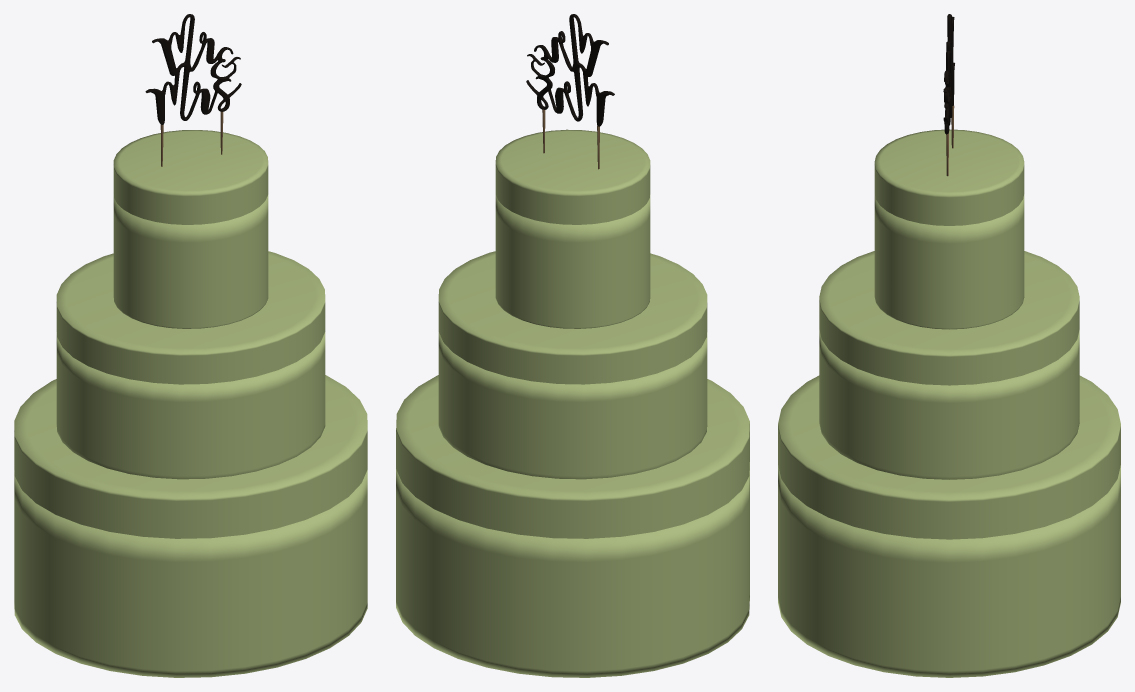
Rendered from 3-tier-pistage-none-mrms.glb.
The picture shows the model from 3 angles, left to right: view 1: azimuth 30°, elevation 25°; view 2: azimuth 150°, elevation 25°; view 3: azimuth 270°, elevation 25°; orthographic projection.
Parts seen in each view (by area): view 1: Cylinder.022, Cylinder.014, Cylinder.021, mrms.003; view 2: Cylinder.022, Cylinder.014, Cylinder.021, mrms.003; view 3: Cylinder.022, Cylinder.014, Cylinder.021, mrms.003.
Boxes of the visible parts, box(x1,y1,x2,y2) form: Cylinder.022: box(14, 375, 367, 677); Cylinder.014: box(56, 251, 325, 479); Cylinder.021: box(113, 130, 268, 328); mrms.003: box(145, 14, 241, 166); Cylinder.022: box(396, 375, 749, 677); Cylinder.014: box(438, 251, 707, 479); Cylinder.021: box(495, 129, 650, 328); mrms.003: box(526, 14, 614, 169); Cylinder.022: box(778, 375, 1120, 677); Cylinder.014: box(819, 251, 1079, 479); Cylinder.021: box(874, 129, 1024, 329); mrms.003: box(943, 14, 954, 176).
Bounding box in the file's own units: 4.22 × 7.67 × 4.06.
